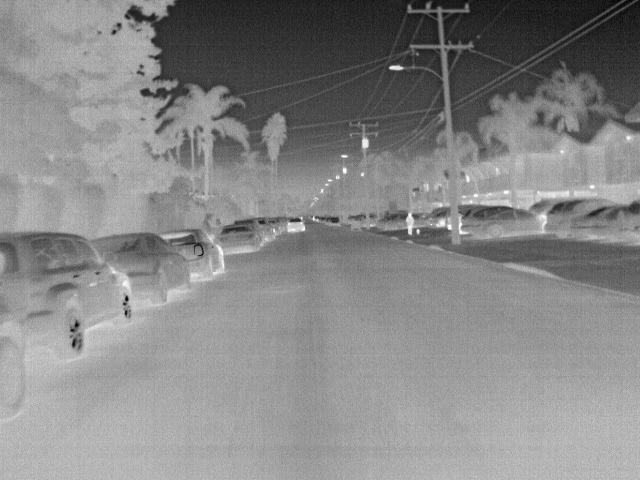car: (5, 227, 139, 361), (90, 230, 196, 301), (1, 307, 31, 422), (157, 230, 226, 279), (551, 199, 618, 242), (472, 208, 550, 241), (588, 205, 638, 245), (568, 206, 613, 246), (460, 204, 510, 236), (220, 223, 260, 254), (252, 215, 274, 243), (428, 208, 450, 230), (286, 214, 309, 232), (385, 214, 403, 232), (327, 216, 343, 228)
dog: (416, 227, 423, 237)
person: (403, 210, 417, 237)
